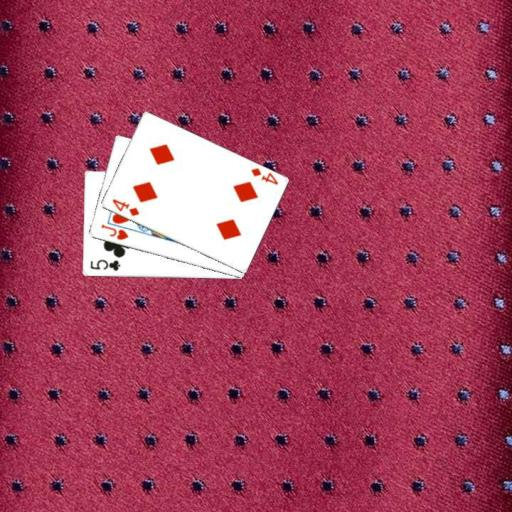4D: (248, 165, 280, 187), (109, 196, 140, 218)
5C: (87, 257, 121, 272)
JH: (98, 221, 130, 242)
